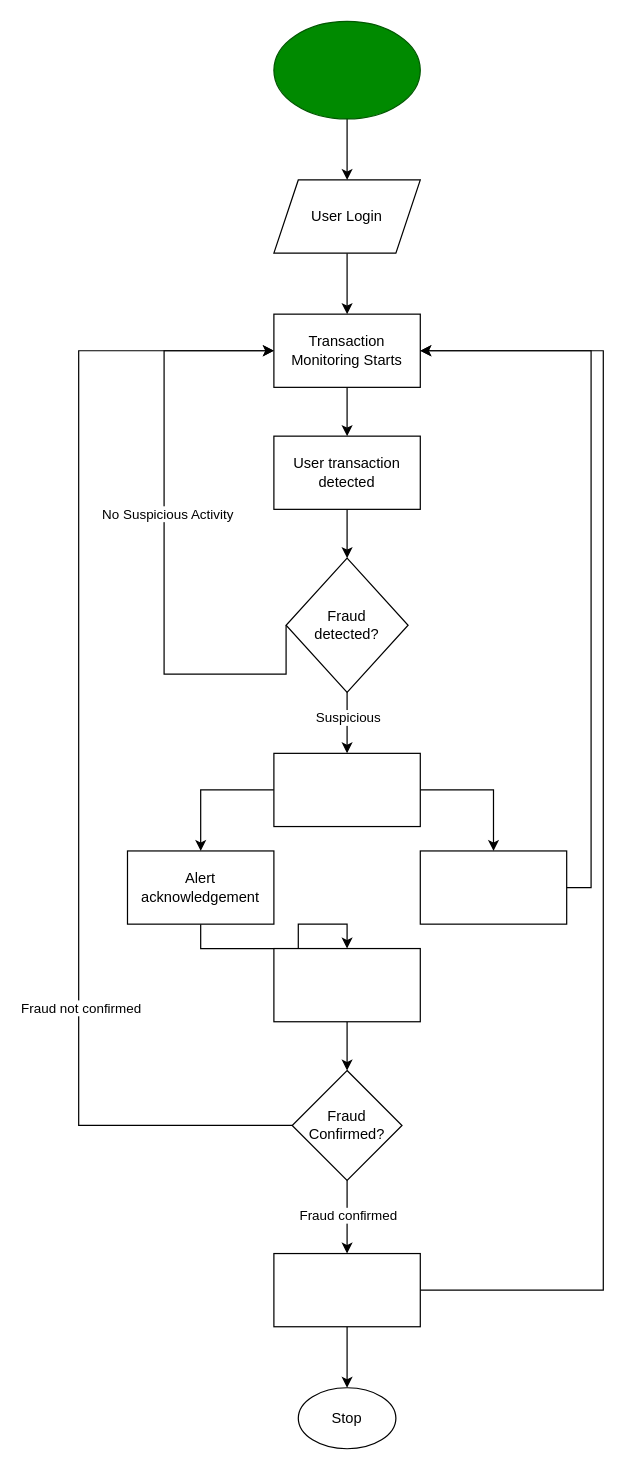
Image size: 634x1470. Some labels were removed from this diagram. The centre of each missing label's shape, as x and y in pixels:
Alert Dismissed: [493,887]
Alert generation: [346,789]
Investigation: [346,984]
Resolution: [346,1289]
